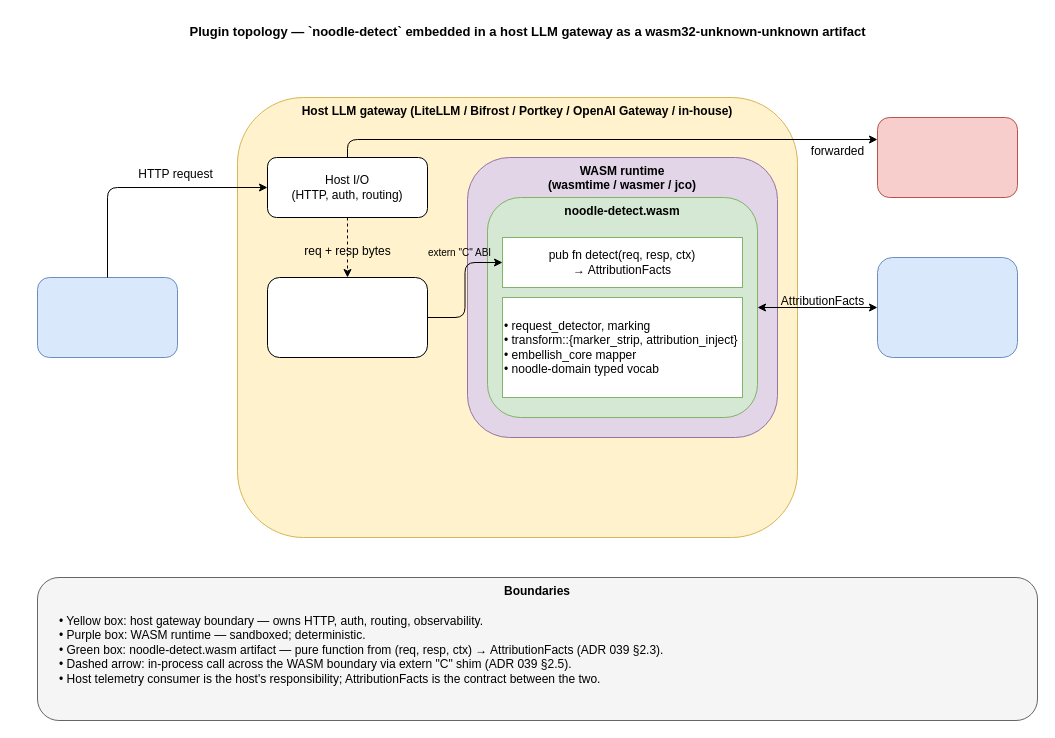
This 1055x738 diagram has some shape labels left out. The centre of each missing label's shape, as x and y in pixels:
"Host telemetry consumer (OTLP collector, the telemetry backend, etc.)" belongs at [947,307].
"LLM caller (client app)" belongs at [107,317].
"LLM provider (Anthropic / OpenAI / etc.)" belongs at [947,157].
"Plugin shim (host language ↔ extern function ABI)" belongs at [347,317].
